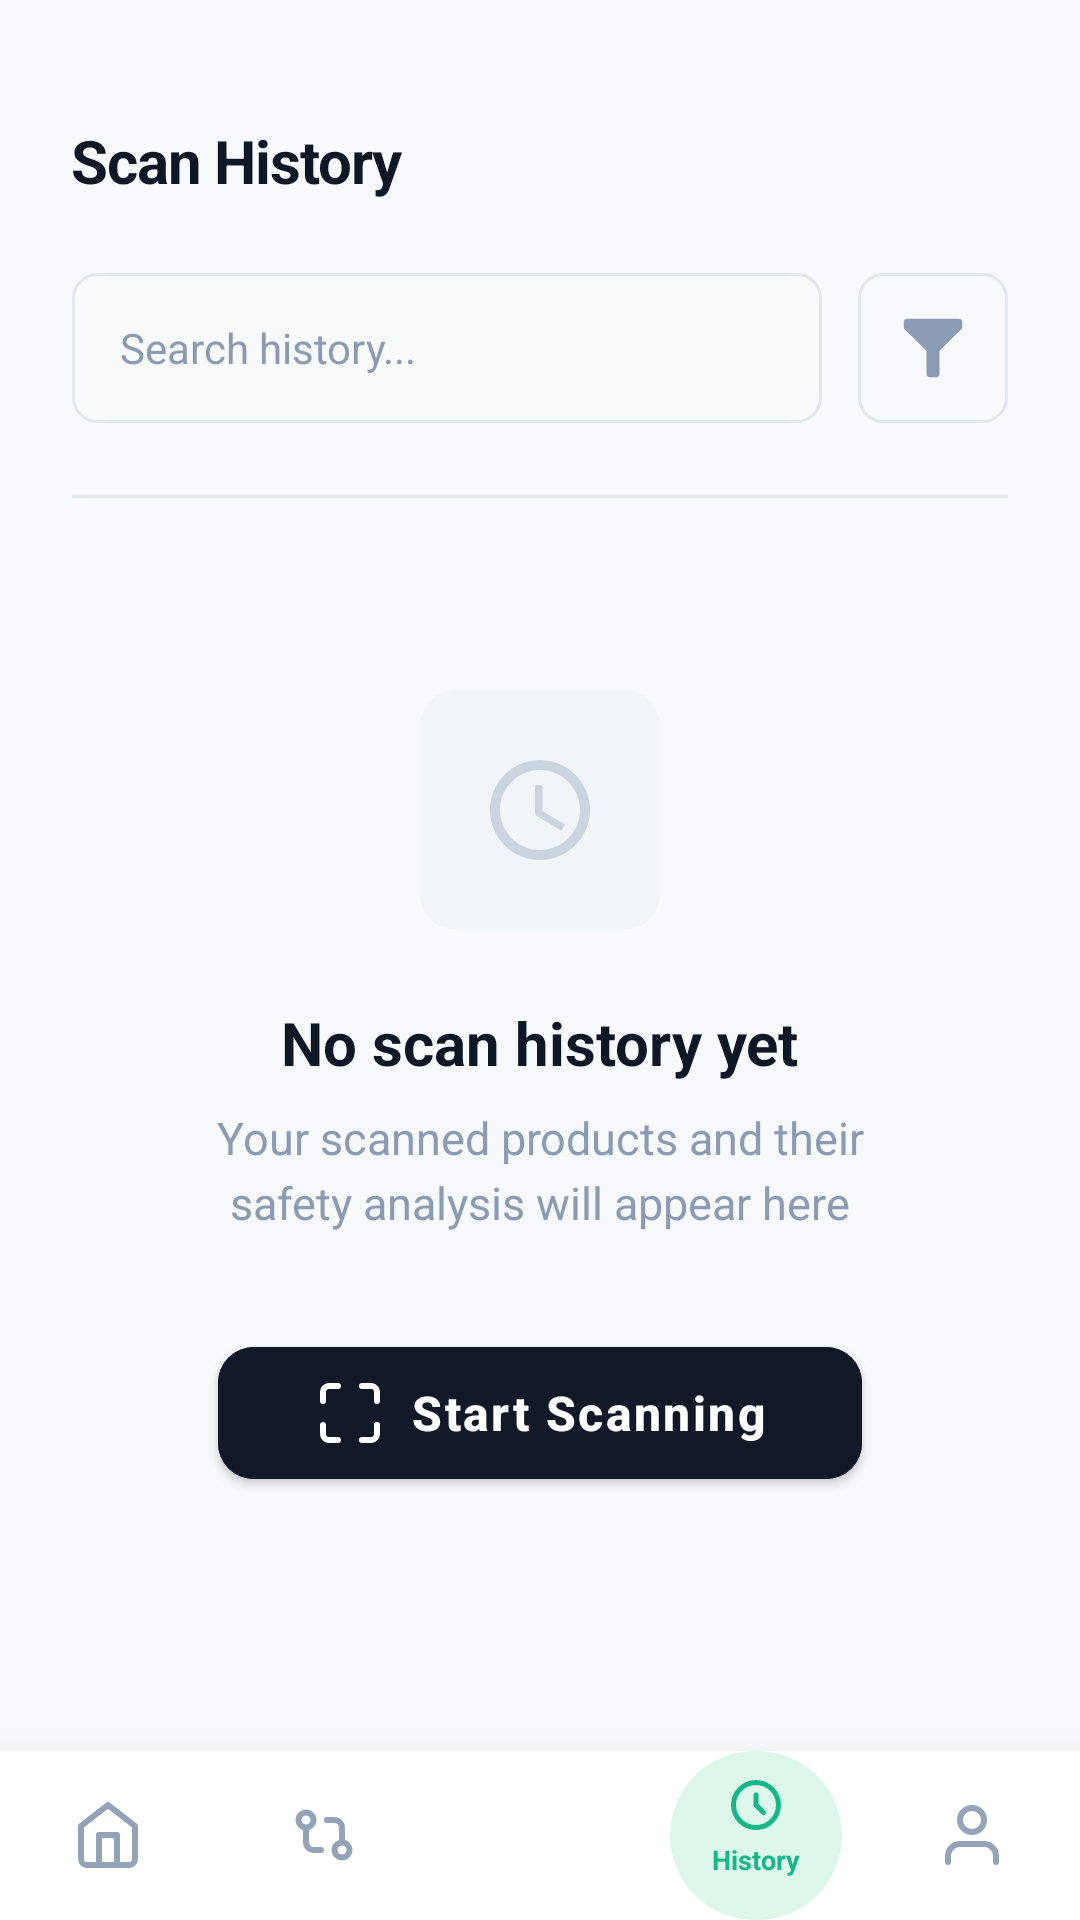

Icons on this 1080*1920 Android screen, each with the point to tap as (x,y):
clock: (540,810)
filter: (933,348)
home nav: (108,1835)
user nav: (972,1835)
